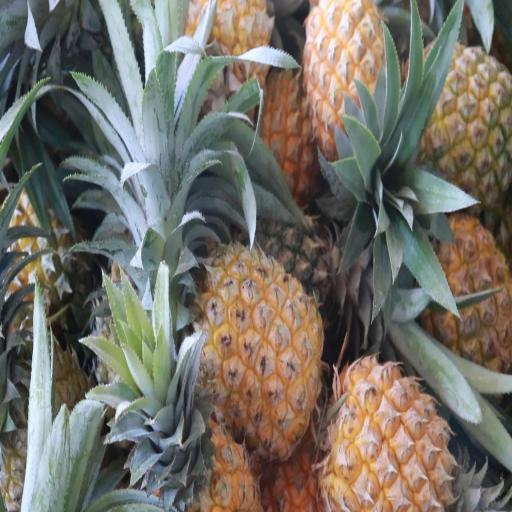Pineapple - v8 v1: (200, 242, 322, 457), (324, 360, 454, 512), (129, 370, 257, 512), (306, 0, 399, 161), (419, 42, 512, 196), (419, 217, 512, 371)
